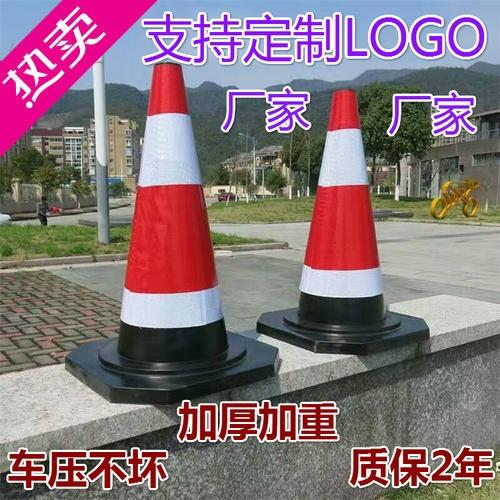cone_barrel: (98, 62, 246, 391), (278, 93, 399, 338)
